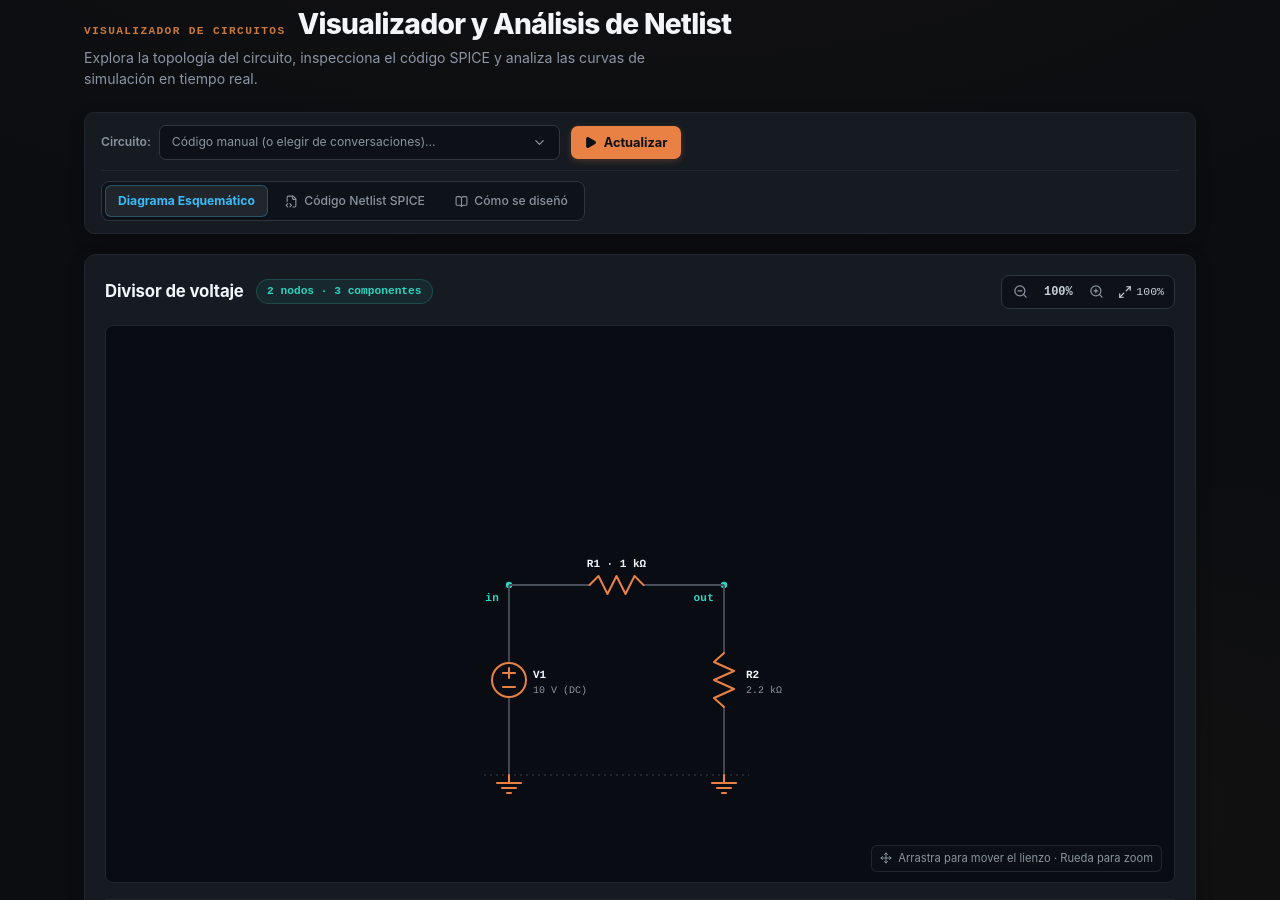
Test case: VisualizerScreen › renders heading, select, textarea, and default circuit
Check: the heading "Visualizador y Análisis de Netlist" is shown, box [298,8,731,42]
Check: the dropdown named "seleccionar netlist" is shown, box [159,125,560,160]
Click the button "Cómo se diseñó" at (511, 201), box [442,185,581,217]
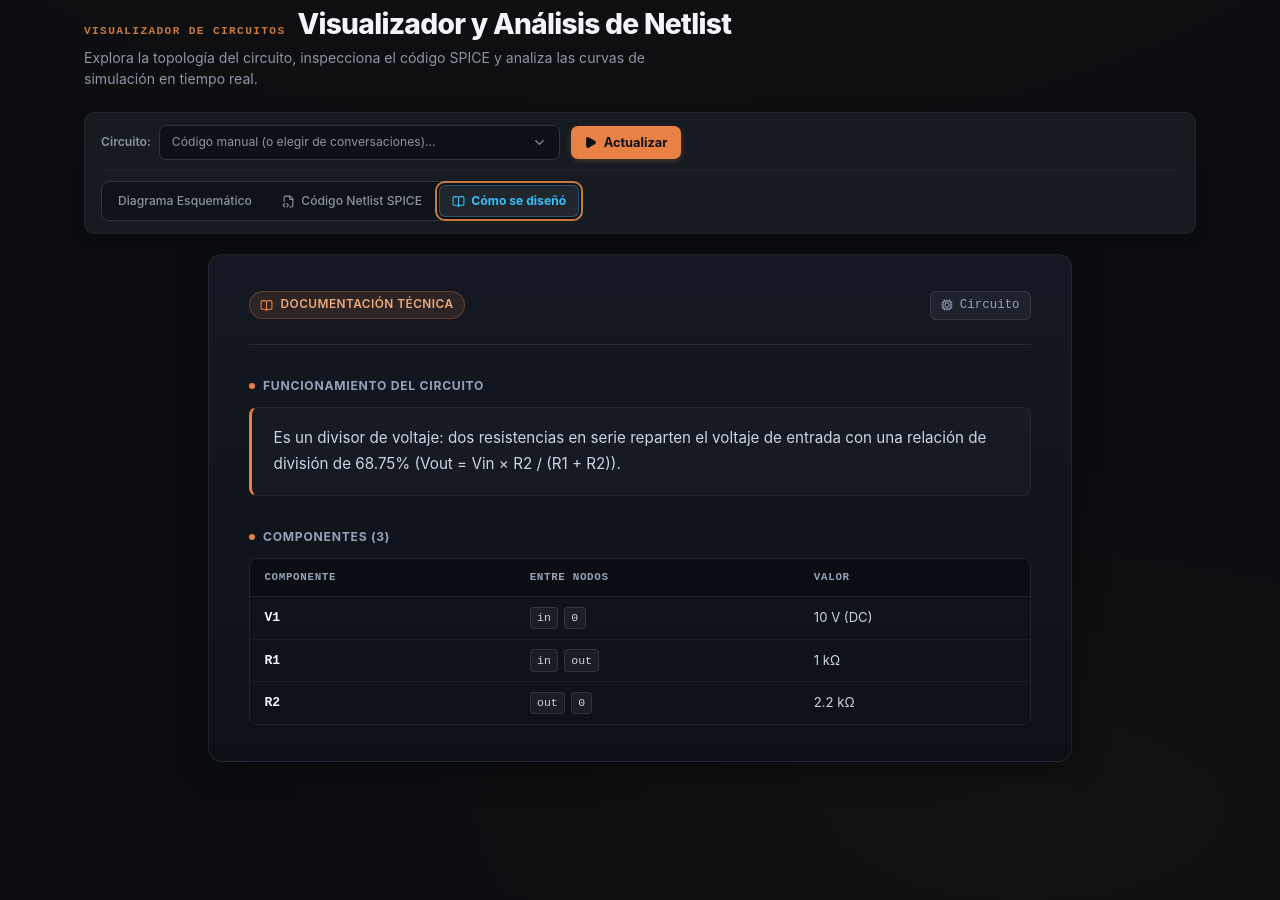
Check: the text "dos resistencias en serie reparten el voltaje" is shown, box [274,428,986,473]
